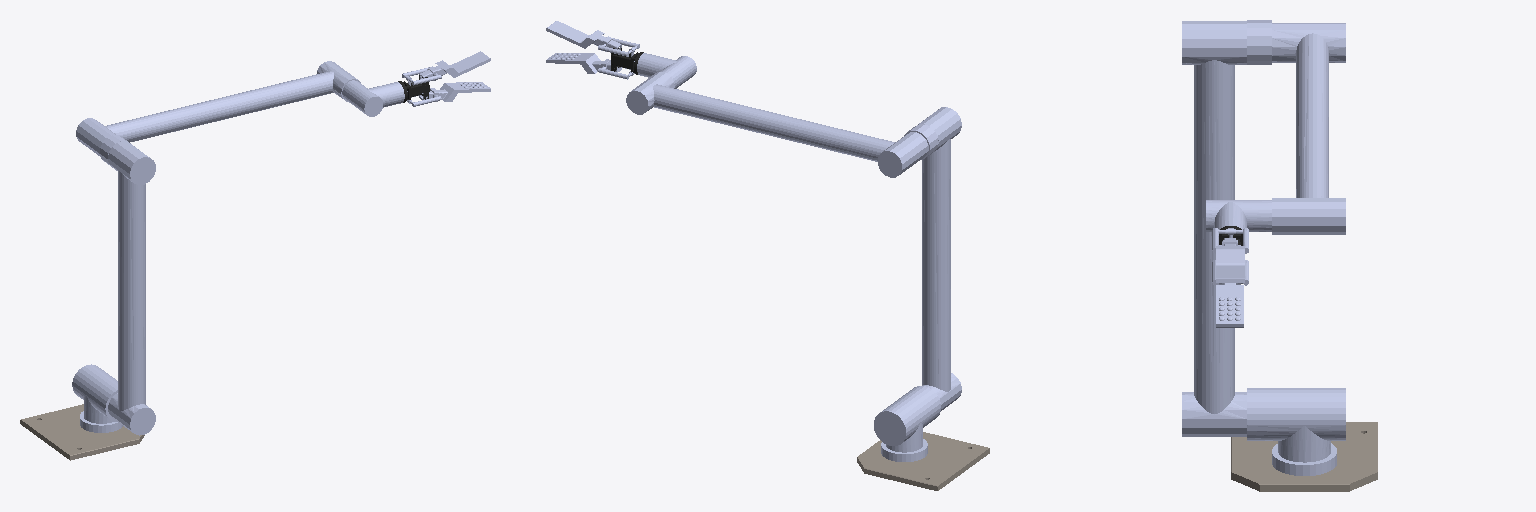
URDF robot description (Arm_urdf):
<?xml version="1.0" encoding="utf-8"?>
<!-- This URDF was automatically created by SolidWorks to URDF Exporter! Originally created by [author] ([email redacted]) 
     Commit Version: 1.6.0-4-g7f85cfe  Build Version: 1.6.7995.38578
     For more information, please see http://wiki.ros.org/sw_urdf_exporter -->
<robot
  name="Arm_urdf">
<link name="base_footprint">
    <visual>
        <origin xyz="0 0 0" rpy="0 0 0" />
        <geometry>
            <box size="0.001 0.001 0.001" />
        </geometry>
    </visual>
</link>

<joint name="base_footprint_joint" type="fixed">
    <origin xyz="0 0 0.001" rpy="0 0 0" />
    <parent link="base_footprint"/>
    <child link="base_link" />
</joint>
  <link
    name="base_link">
    <inertial>
      <origin
        xyz="-0.0292064837891555 9.82808413992065E-09 0.00773094388760092"
        rpy="0 0 0" />
      <mass
        value="2.5433833664806" />
      <inertia
        ixx="0.00628163463085114"
        ixy="6.92660079350532E-19"
        ixz="1.98730412004206E-05"
        iyy="0.00637258484633234"
        iyz="-1.49612150409046E-19"
        izz="0.0126050197334029" />
    </inertial>
    <visual>
      <origin
        xyz="0 0 0"
        rpy="0 0 0" />
      <geometry>
        <mesh
          filename="package://arm_urdf_new/meshes/visual/base_link.STL" />
      </geometry>
      <material
        name="">
        <color
          rgba="0.650980392156863 0.619607843137255 0.588235294117647 1" />
      </material>
    </visual>
    <collision>
      <origin
        xyz="0 0 0"
        rpy="0 0 0" />
      <geometry>
        <mesh
          filename="package://arm_urdf_new/meshes/visual/base_link.STL" />
      </geometry>
    </collision>
  </link>
  <link
    name="shoulder_base">
    <inertial>
      <origin
        xyz="9.29185170941288E-08 -0.00726682022786187 0.0369172409350033"
        rpy="0 0 0" />
      <mass
        value="0.547968899396397" />
      <inertia
        ixx="0.000911442104513962"
        ixy="-3.38184624925756E-11"
        ixz="9.43198637686502E-13"
        iyy="0.000534320721116197"
        iyz="5.20948534717379E-05"
        izz="0.000696689325254328" />
    </inertial>
    <visual>
      <origin
        xyz="0 0 0"
        rpy="0 0 0" />
      <geometry>
        <mesh
          filename="package://arm_urdf_new/meshes/visual/shoulder_base.STL" />
      </geometry>
      <material
        name="">
        <color
          rgba="0.792156862745098 0.819607843137255 0.933333333333333 1" />
      </material>
    </visual>
    <collision>
      <origin
        xyz="0 0 0"
        rpy="0 0 0" />
      <geometry>
        <mesh
          filename="package://arm_urdf_new/meshes/visual/shoulder_base.STL" />
      </geometry>
    </collision>
  </link>
  <joint
    name="shoulder_base_joint"
    type="continuous">
    <origin
      xyz="0 0 0.028"
      rpy="0 0 0" />
    <parent
      link="base_link" />
    <child
      link="shoulder_base" />
    <axis
      xyz="0 0 1" />
    <limit
      lower="0"
      upper="6.283"
      effort="200"
      velocity="3" />
  </joint>
  <link
    name="upper_arm_cylinder">
    <inertial>
      <origin
        xyz="-1.33819259338572E-07 0.0399999898537353 0.250000006515245"
        rpy="0 0 0" />
      <mass
        value="1.26674905761263" />
      <inertia
        ixx="0.0392454061401058"
        ixy="-1.72857379849092E-09"
        ixz="-1.1583048971401E-08"
        iyy="0.0391174058860417"
        iyz="-1.59021896999605E-09"
        izz="0.000553103031324755" />
    </inertial>
    <visual>
      <origin
        xyz="0 0 0"
        rpy="0 0 0" />
      <geometry>
        <mesh
          filename="package://arm_urdf_new/meshes/visual/upper_arm_cylinder.STL" />
      </geometry>
      <material
        name="">
        <color
          rgba="0.792156862745098 0.819607843137255 0.933333333333333 1" />
      </material>
    </visual>
    <collision>
      <origin
        xyz="0 0 0"
        rpy="0 0 0" />
      <geometry>
        <mesh
          filename="package://arm_urdf_new/meshes/visual/upper_arm_cylinder.STL" />
      </geometry>
    </collision>
  </link>
  <joint
    name="upper_arm_cylinder_joint"
    type="revolute">
    <origin
      xyz="0 -0.149999990171918 0.0499999999999974"
      rpy="0 0 0" />
    <parent
      link="shoulder_base" />
    <child
      link="upper_arm_cylinder" />
    <axis
      xyz="0 -1 0" />
    <limit
      lower="-1.5708"
      upper="1.5708"
      effort="200"
      velocity="3" />
  </joint>
  <link
    name="lower_arm_cylinder">
    <inertial>
      <origin
        xyz="0.223699510363451 -0.0464535386689112 7.73162921463566E-08"
        rpy="0 0 0" />
      <mass
        value="0.965720738719143" />
      <inertia
        ixx="0.000664698936180895"
        ixy="-0.00103626732122404"
        ixz="-4.33113740250719E-08"
        iyy="0.0339695103321179"
        iyz="-1.37903167492945E-09"
        izz="0.0343996252283291" />
    </inertial>
    <visual>
      <origin
        xyz="0 0 0"
        rpy="0 0 0" />
      <geometry>
        <mesh
          filename="package://arm_urdf_new/meshes/visual/lower_arm_cylinder.STL" />
      </geometry>
      <material
        name="">
        <color
          rgba="0.792156862745098 0.819607843137255 0.933333333333333 1" />
      </material>
    </visual>
    <collision>
      <origin
        xyz="0 0 0"
        rpy="0 0 0" />
      <geometry>
        <mesh
          filename="package://arm_urdf_new/meshes/visual/lower_arm_cylinder.STL" />
      </geometry>
    </collision>
  </link>
  <joint
    name="lower_arm_cylinder_joint"
    type="revolute">
    <origin
      xyz="0 0.2 0.5"
      rpy="0 0 0" />
    <parent
      link="upper_arm_cylinder" />
    <child
      link="lower_arm_cylinder" />
    <axis
      xyz="0 1 0" />
    <limit
      lower="-3.92699"
      upper="0.7854"
      effort="200"
      velocity="3" />
  </joint>
  <link
    name="wrist_cylinder">
    <inertial>
      <origin
        xyz="0.0172901666734815 0.0360140167199761 8.52731856237909E-08"
        rpy="0 0 0" />
      <mass
        value="0.16716236671567" />
      <inertia
        ixx="8.12875362367741E-05"
        ixy="1.73820838865348E-05"
        ixz="-4.58227920659574E-11"
        iyy="0.000118622681045282"
        iyz="1.82563615978395E-11"
        izz="0.000165624520780463" />
    </inertial>
    <visual>
      <origin
        xyz="0 0 0"
        rpy="0 0 0" />
      <geometry>
        <mesh
          filename="package://arm_urdf_new/meshes/visual/wrist_cylinder.STL" />
      </geometry>
      <material
        name="">
        <color
          rgba="0.792156862745098 0.819607843137255 0.933333333333333 1" />
      </material>
    </visual>
    <collision>
      <origin
        xyz="0 0 0"
        rpy="0 0 0" />
      <geometry>
        <mesh
          filename="package://arm_urdf_new/meshes/visual/wrist_cylinder.STL" />
      </geometry>
    </collision>
  </link>
  <joint
    name="wrist_cylinder_joint"
    type="continuous">
    <origin
      xyz="0.5 -0.169999999999999 0"
      rpy="0 0 0" />
    <parent
      link="lower_arm_cylinder" />
    <child
      link="wrist_cylinder" />
    <axis
      xyz="0 1 0" />
    <limit
      lower="0"
      upper="0"
      effort="200"
      velocity="3" />
  </joint>
  <link
    name="arm_rotate">
    <inertial>
      <origin
        xyz="0.0106304475519746 0.000353133249130347 4.01452071119301E-05"
        rpy="0 0 0" />
      <mass
        value="0.0124047403077522" />
      <inertia
        ixx="2.28631743840939E-06"
        ixy="-2.20228888606826E-08"
        ixz="-6.67450313669069E-10"
        iyy="1.74603895262428E-06"
        iyz="-1.26485224644082E-10"
        izz="1.71851914957186E-06" />
    </inertial>
    <visual>
      <origin
        xyz="0 0 0"
        rpy="0 0 0" />
      <geometry>
        <mesh
          filename="package://arm_urdf_new/meshes/visual/arm_rotate.STL" />
      </geometry>
      <material
        name="">
        <color
          rgba="0.2 0.2 0.2 1" />
      </material>
    </visual>
    <collision>
      <origin
        xyz="0 0 0"
        rpy="0 0 0" />
      <geometry>
        <mesh
          filename="package://arm_urdf_new/meshes/visual/arm_rotate.STL" />
      </geometry>
    </collision>
  </link>
  <joint
    name="arm_rotate_joint"
    type="continuous">
    <origin
      xyz="0.077 0.03 0"
      rpy="0 0 0" />
    <parent
      link="wrist_cylinder" />
    <child
      link="arm_rotate" />
    <axis
      xyz="1 0 0" />
    <limit
      lower="0"
      upper="6.2832"
      effort="200"
      velocity="3" />
  </joint>
  <link
    name="finger_1">
    <inertial>
      <origin
        xyz="0.0660992209346021 -0.00496780547223352 -0.00829355321651146"
        rpy="0 0 0" />
      <mass
        value="0.0328182602345924" />
      <inertia
        ixx="3.76817248848763E-06"
        ixy="1.72780673518588E-06"
        ixz="-6.91279336191209E-08"
        iyy="4.06972127484588E-05"
        iyz="3.00522180646228E-09"
        izz="3.8681659734023E-05" />
    </inertial>
    <visual>
      <origin
        xyz="0 0 0"
        rpy="0 0 0" />
      <geometry>
        <mesh
          filename="package://arm_urdf_new/meshes/visual/finger_1.STL" />
      </geometry>
      <material
        name="">
        <color
          rgba="0.792156862745098 0.819607843137255 0.933333333333333 1" />
      </material>
    </visual>
    <collision>
      <origin
        xyz="0 0 0"
        rpy="0 0 0" />
      <geometry>
        <mesh
          filename="package://arm_urdf_new/meshes/visual/finger_1.STL" />
      </geometry>
    </collision>
  </link>
  <joint
    name="fingure_1_joint"
    type="continuous">
    <origin
      xyz="0.045 -0.009375 -0.018"
      rpy="1.5708 0 0" />
    <parent
      link="arm_rotate" />
    <child
      link="finger_1" />
    <axis
      xyz="0 0 -1" />
    <limit
      lower="0"
      upper="6.2832"
      effort="200"
      velocity="3" />
    <mimic
      joint="supporter_joint"
      multiplier="-1"
      offset="0" />
  </joint>
  <link
    name="red_block_1">
    <inertial>
      <origin
        xyz="-9.8280689142527E-09 4.2277292777726E-13 -3.32067706665384E-13"
        rpy="0 0 0" />
      <mass
        value="0.00174697026717748" />
      <inertia
        ixx="1.03012520473361E-07"
        ixy="3.39121864988653E-23"
        ixz="-2.7061693360686E-22"
        iyy="1.1253952843479E-07"
        iyz="-1.31900655164854E-08"
        izz="1.81712992327638E-07" />
    </inertial>
    <visual>
      <origin
        xyz="0 0 0"
        rpy="0 0 0" />
      <geometry>
        <mesh
          filename="package://arm_urdf_new/meshes/visual/red_block_1.STL" />
      </geometry>
      <material
        name="">
        <color
          rgba="0.792156862745098 0.819607843137255 0.933333333333333 1" />
      </material>
    </visual>
    <collision>
      <origin
        xyz="0 0 0"
        rpy="0 0 0" />
      <geometry>
        <mesh
          filename="package://arm_urdf_new/meshes/visual/red_block_1.STL" />
      </geometry>
    </collision>
  </link>
  <joint
    name="red_block_1_joint"
    type="prismatic">
    <origin
      xyz="0.019 -0.0035 -0.0085"
      rpy="0 1.5708 0" />
    <parent
      link="finger_1" />
    <child
      link="red_block_1" />
    <axis
      xyz="0 -0.18116 0.98345" />
    <limit
      lower="0"
      upper="0.09"
      effort="200"
      velocity="3" />
    <mimic
      joint="supporter_joint"
      multiplier="1"
      offset="0" />
  </joint>
  <link
    name="fingure_2">
    <inertial>
      <origin
        xyz="0.0660992209345755 0.0049678054721487 -0.00928524332673757"
        rpy="0 0 0" />
      <mass
        value="0.0328182602345925" />
      <inertia
        ixx="3.76817248849424E-06"
        ixy="-1.72780673525657E-06"
        ixz="6.9127933619225E-08"
        iyy="4.06972127484523E-05"
        iyz="3.00522180660152E-09"
        izz="3.86816597340231E-05" />
    </inertial>
    <visual>
      <origin
        xyz="0 0 0"
        rpy="0 0 0" />
      <geometry>
        <mesh
          filename="package://arm_urdf_new/meshes/visual/fingure_2.STL" />
      </geometry>
      <material
        name="">
        <color
          rgba="0.792156862745098 0.819607843137255 0.933333333333333 1" />
      </material>
    </visual>
    <collision>
      <origin
        xyz="0 0 0"
        rpy="0 0 0" />
      <geometry>
        <mesh
          filename="package://arm_urdf_new/meshes/visual/fingure_2.STL" />
      </geometry>
    </collision>
  </link>
  <joint
    name="fingure_2_joint"
    type="continuous">
    <origin
      xyz="0.045 -0.0099538 0.018"
      rpy="1.5708 0 0" />
    <parent
      link="arm_rotate" />
    <child
      link="fingure_2" />
    <axis
      xyz="0 0 -1" />
    <limit
      lower="0"
      upper="6.2832"
      effort="200"
      velocity="3" />
    <mimic
      joint="supporter_joint"
      multiplier="1"
      offset="0" />
  </joint>
  <link
    name="red_block_2">
    <inertial>
      <origin
        xyz="7.79931674799172E-15 -6.81676937119846E-13 4.11226608321158E-13"
        rpy="0 0 0" />
      <mass
        value="0.00174697026717749" />
      <inertia
        ixx="1.03012520473362E-07"
        ixy="1.93824085241509E-22"
        ixz="-6.75172875211816E-23"
        iyy="1.12539528434841E-07"
        iyz="1.3190065516618E-08"
        izz="1.81712992327589E-07" />
    </inertial>
    <visual>
      <origin
        xyz="0 0 0"
        rpy="0 0 0" />
      <geometry>
        <mesh
          filename="package://arm_urdf_new/meshes/visual/red_block_2.STL" />
      </geometry>
      <material
        name="">
        <color
          rgba="0.792156862745098 0.819607843137255 0.933333333333333 1" />
      </material>
    </visual>
    <collision>
      <origin
        xyz="0 0 0"
        rpy="0 0 0" />
      <geometry>
        <mesh
          filename="package://arm_urdf_new/meshes/visual/red_block_2.STL" />
      </geometry>
    </collision>
  </link>
  <joint
    name="red_block_2_joint"
    type="prismatic">
    <origin
      xyz="0.019 0.0035 -0.0090788"
      rpy="0 1.5708 0" />
    <parent
      link="fingure_2" />
    <child
      link="red_block_2" />
    <axis
      xyz="0 0.18116 0.98345" />
    <limit
      lower="0"
      upper="0.09"
      effort="200"
      velocity="3" />
    <mimic
      joint="supporter_joint"
      multiplier="1"
      offset="0" />
  </joint>
  <link
    name="supporter">
    <inertial>
      <origin
        xyz="0.035922105798786 -6.83074288798657E-09 -6.42013830987054E-09"
        rpy="0 0 0" />
      <mass
        value="0.0161452418064815" />
      <inertia
        ixx="6.53199856990455E-07"
        ixy="-7.03720669206306E-14"
        ixz="-2.1784532112472E-12"
        iyy="5.4987225850035E-06"
        iyz="-3.75532997373652E-12"
        izz="5.29945377002244E-06" />
    </inertial>
    <visual>
      <origin
        xyz="0 0 0"
        rpy="0 0 0" />
      <geometry>
        <mesh
          filename="package://arm_urdf_new/meshes/visual/supporter.STL" />
      </geometry>
      <material
        name="">
        <color
          rgba="0.792156862745098 0.819607843137255 0.933333333333333 1" />
      </material>
    </visual>
    <collision>
      <origin
        xyz="0 0 0"
        rpy="0 0 0" />
      <geometry>
        <mesh
          filename="package://arm_urdf_new/meshes/visual/supporter.STL" />
      </geometry>
    </collision>
  </link>
  <joint
    name="supporter_joint"
    type="prismatic">
    <origin
      xyz="0 0 0"
      rpy="0 0 0" />
    <parent
      link="arm_rotate" />
    <child
      link="supporter" />
    <axis
      xyz="1 0 0" />
    <limit
      lower="0"
      upper="0.009"
      effort="200"
      velocity="3" />
  </joint>
</robot>

--- Render facts (derived) ---
Views: 3 orthographic renders of the robot side by side, from view 1: azimuth 30°, elevation 25°; view 2: azimuth 150°, elevation 25°; view 3: azimuth 270°, elevation 25°.
Robot: Arm_urdf — 12 links, 11 joints (2 revolute, 5 continuous, 3 prismatic, 1 fixed); root link base_footprint; default pose: all joints at 0.
Visible links, largest first — view 1: upper_arm_cylinder, lower_arm_cylinder, base_link, shoulder_base, wrist_cylinder, fingure_2, finger_1; view 2: lower_arm_cylinder, upper_arm_cylinder, base_link, shoulder_base, wrist_cylinder, fingure_2, finger_1; view 3: upper_arm_cylinder, lower_arm_cylinder, shoulder_base, base_link, wrist_cylinder, finger_1, fingure_2, supporter.
Boxes of the visible links, left/top/right/bottom form: upper_arm_cylinder: left=108, top=141, right=155, bottom=435; lower_arm_cylinder: left=76, top=61, right=360, bottom=165; base_link: left=20, top=404, right=144, bottom=460; shoulder_base: left=72, top=364, right=122, bottom=432; wrist_cylinder: left=342, top=80, right=404, bottom=116; fingure_2: left=419, top=51, right=490, bottom=78; finger_1: left=419, top=82, right=490, bottom=101; lower_arm_cylinder: left=626, top=71, right=938, bottom=177; upper_arm_cylinder: left=918, top=107, right=961, bottom=410; base_link: left=857, top=432, right=989, bottom=490; shoulder_base: left=874, top=386, right=940, bottom=461; wrist_cylinder: left=637, top=53, right=696, bottom=88; fingure_2: left=546, top=21, right=621, bottom=49; finger_1: left=546, top=53, right=621, bottom=73; upper_arm_cylinder: left=1182, top=21, right=1246, bottom=436; lower_arm_cylinder: left=1247, top=20, right=1345, bottom=234; shoulder_base: left=1247, top=388, right=1345, bottom=475; base_link: left=1231, top=422, right=1377, bottom=491; wrist_cylinder: left=1206, top=200, right=1271, bottom=231; finger_1: left=1216, top=283, right=1243, bottom=327; fingure_2: left=1216, top=238, right=1244, bottom=282; supporter: left=1212, top=228, right=1248, bottom=285.
Bounding box of the posed robot: 0.8698 × 0.24 × 0.6138 m (x, y, z).
Meshes: 11 distinct files referenced, 11 mesh visuals loaded (11 binary STL).